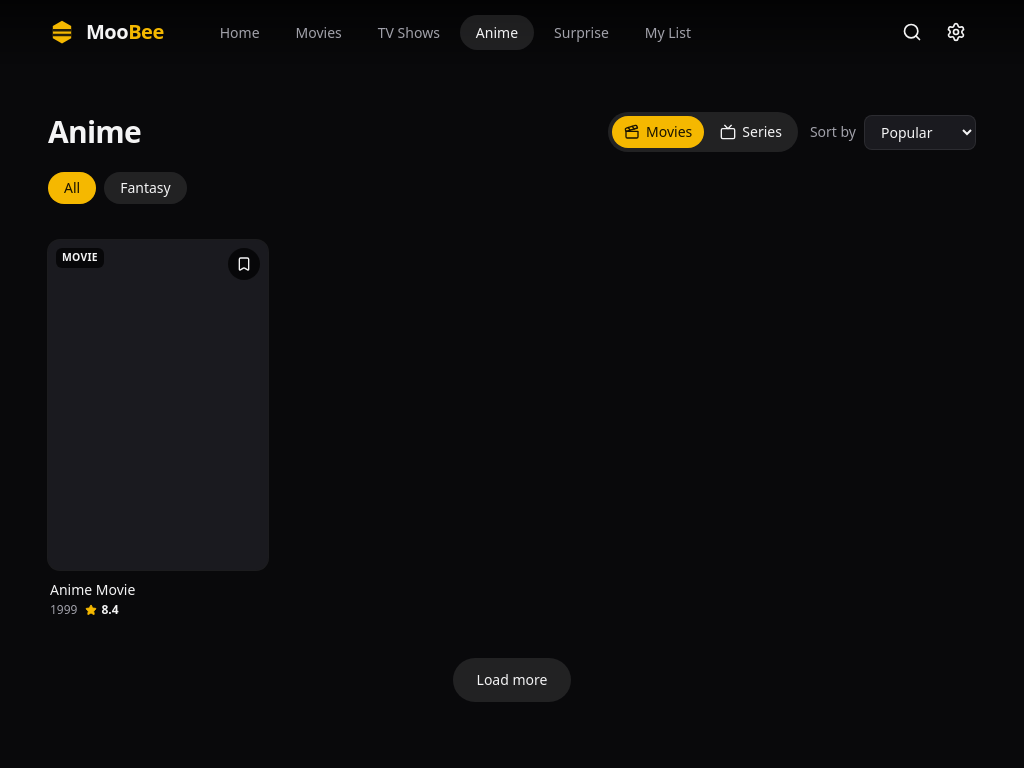
Test case: Anime browse page › ANDs a picked genre with the anime base genre and reflects it in the URL
The image size is (1024, 768).
Expected: the heading "Anime Movie" is shown, left=50, top=580, right=135, bottom=599
Step 1. Click the button "Fantasy" → (145, 188), box left=104, top=172, right=187, bottom=204
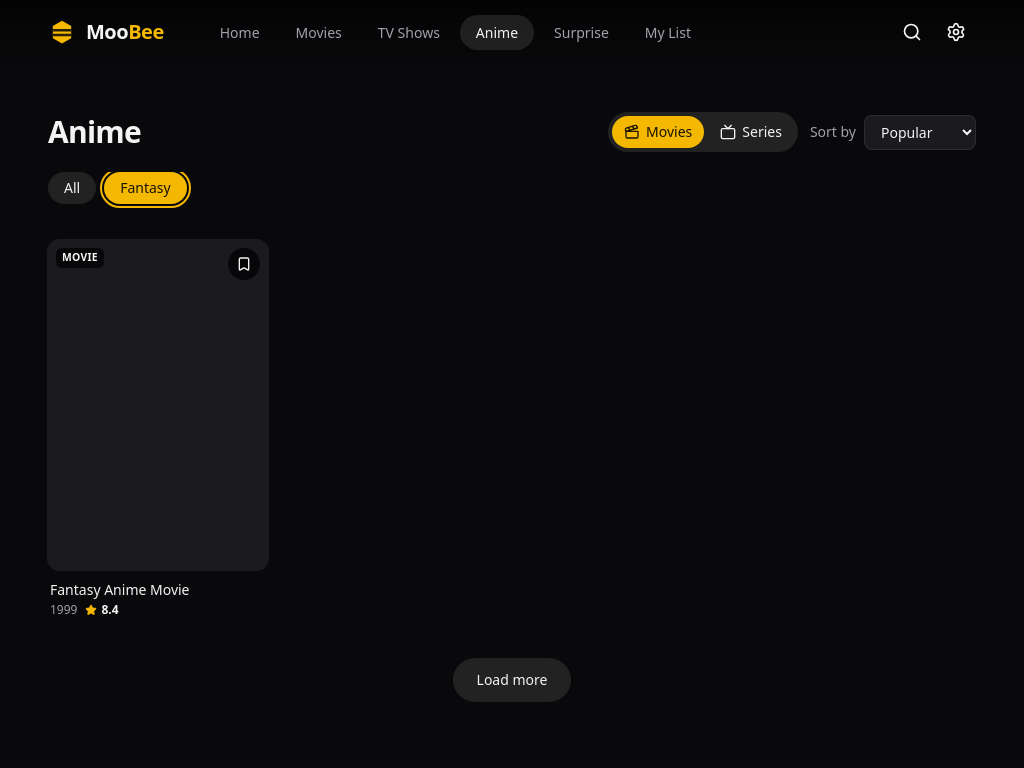
Now the heading "Fantasy Anime Movie" is shown, box left=50, top=580, right=190, bottom=599
